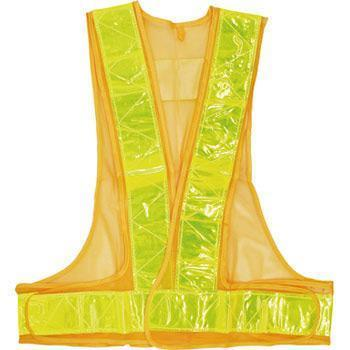vest: (14, 6, 334, 349)
